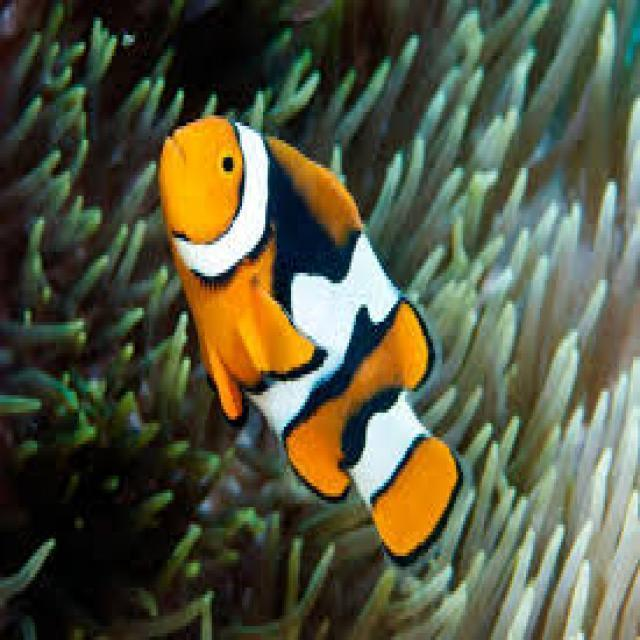ClownFish: (156, 113, 467, 566)
